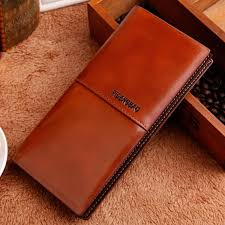monedero: (13, 5, 213, 220)
